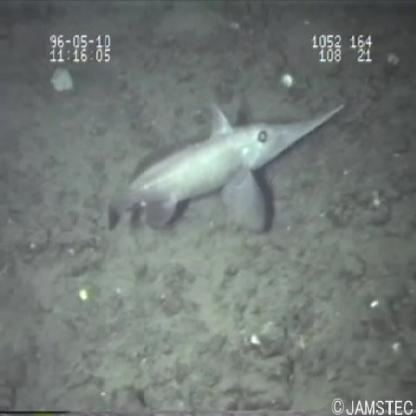Bio: (97, 92, 351, 256)
